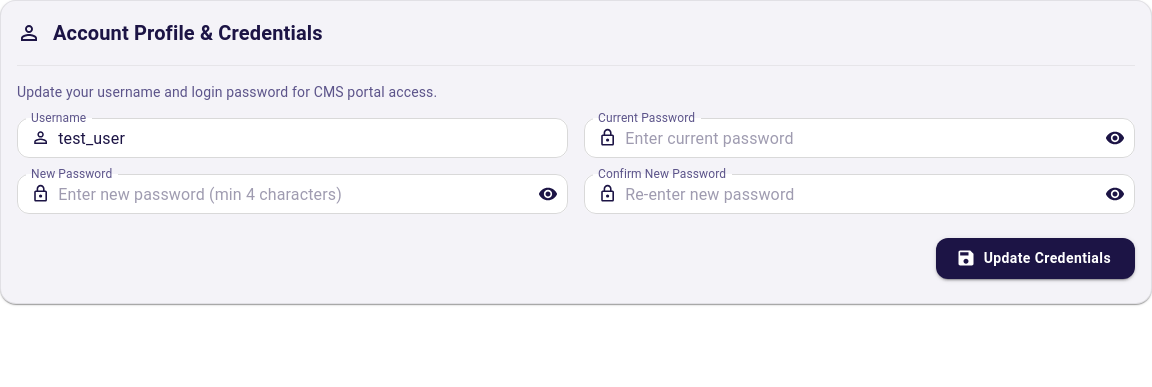
AccountSettingsCard Component › displays error when new passwords do not match
In the password field labelled "New Password": (290, 194) [58,174,522,214], type "password123"
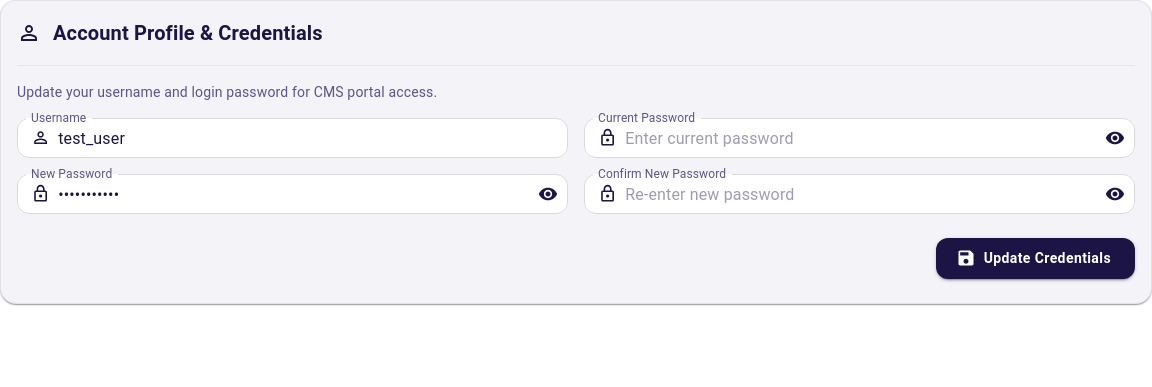
In the password field with placeholder "Re-enter new password": (857, 194) [625,174,1089,214], type "different123"
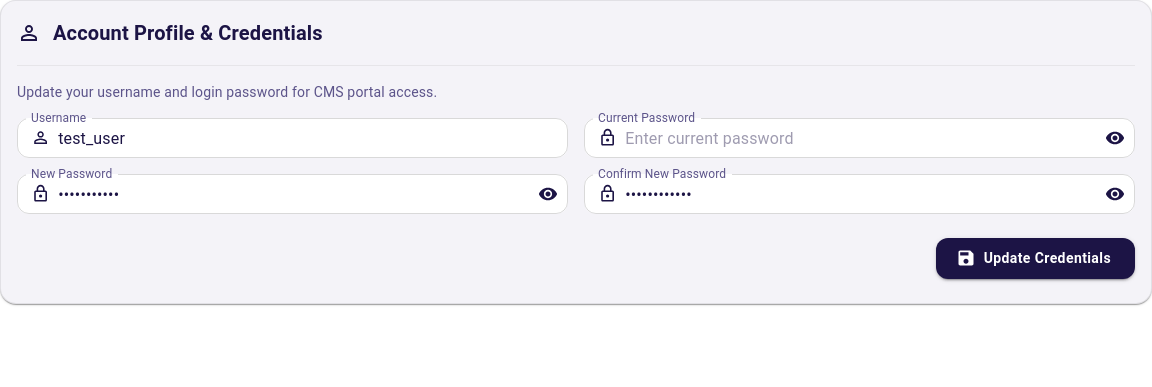
Click the button "Update Credentials": click(1035, 258) [936,238,1135,278]
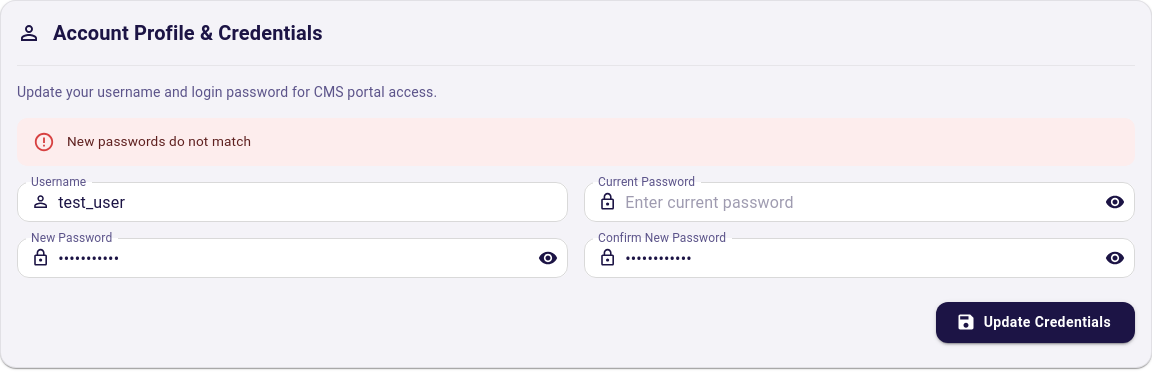
Expected: the text "New passwords do not match" is shown, [67,133,251,149]
